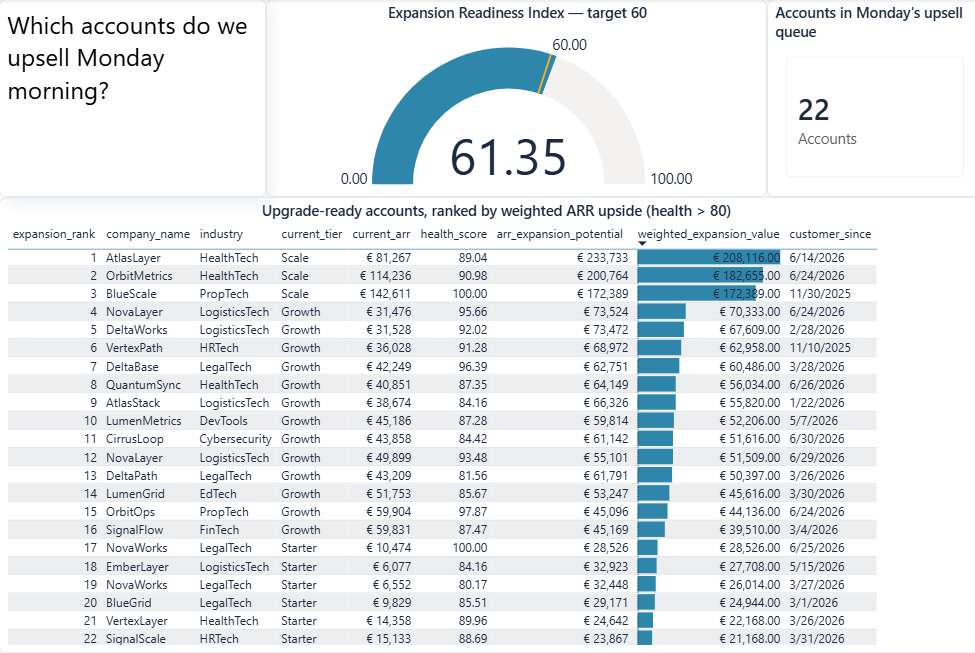

The page's visual inventory and layout, read from the dashboard file:
{"tool":"powerbi","page":{"name":" KAM Expansion Radar","canvas":[1280,720],"ordinal":1},"visuals":[{"type":"gauge","title":"Expansion Readiness Index — target 60","fields":{"Y":["_Measures.Expansion Readiness Index"]},"box":[481,0,551.4,217.9],"z":0},{"type":"cardVisual","title":"Accounts in Monday''s upsell queue","fields":{"Data":["CountNonNull(query_b_expansion.company_name)"]},"box":[1032.4,0,238.8,217.9],"z":2},{"type":"tableEx","title":"Upgrade-ready accounts, ranked by weighted ARR upside (health > 80)","fields":{"Values":["query_b_expansion.expansion_rank","query_b_expansion.company_name","query_b_expansion.industry","query_b_expansion.current_tier","query_b_expansion.current_arr","query_b_expansion.health_score","query_b_expansion.arr_expansion_potential","query_b_expansion.weighted_expansion_value","query_b_expansion.customer_since"]},"box":[187.1,217.9,1092.9,501.9],"z":3},{"type":"textbox","box":[187.1,0,293.9,217.9],"z":4}]}

Visuals, with their boxes on the page's 1280x720 design canvas (x1, y1, x2, y2). These are canvas units, not pixel positions in the 975x653 screenshot, which may show the page scaled, cropped or inside an application window:
"Expansion Readiness Index — target 60" gauge: <bbox>481, 0, 1032, 218</bbox>
"Accounts in Monday''s upsell queue" cardVisual: <bbox>1032, 0, 1271, 218</bbox>
"Upgrade-ready accounts, ranked by weighted ARR upside (health > 80)" tableEx: <bbox>187, 218, 1280, 720</bbox>
textbox: <bbox>187, 0, 481, 218</bbox>
